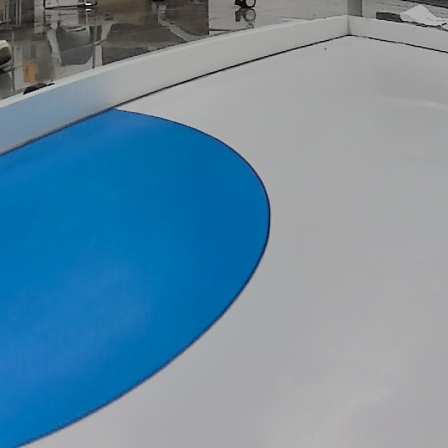blue_base: (0, 103, 272, 448)
